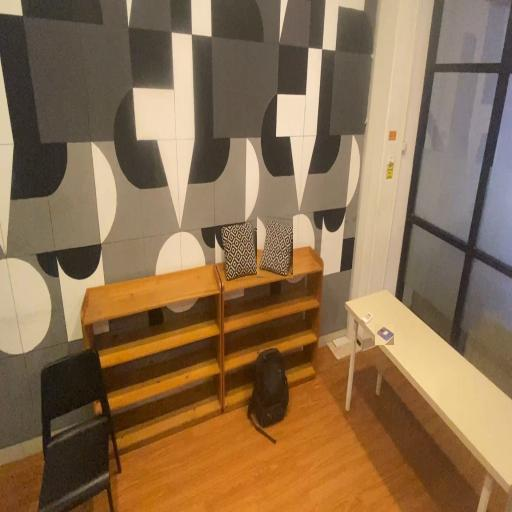bantal: (221, 222, 259, 284), (257, 216, 293, 278)
hp: (375, 324, 394, 345)
kursi: (36, 349, 126, 512)
lemari: (80, 263, 224, 455)
meja: (343, 285, 511, 512)
remote AC: (362, 309, 372, 325)
tas ransel: (247, 346, 293, 450)
